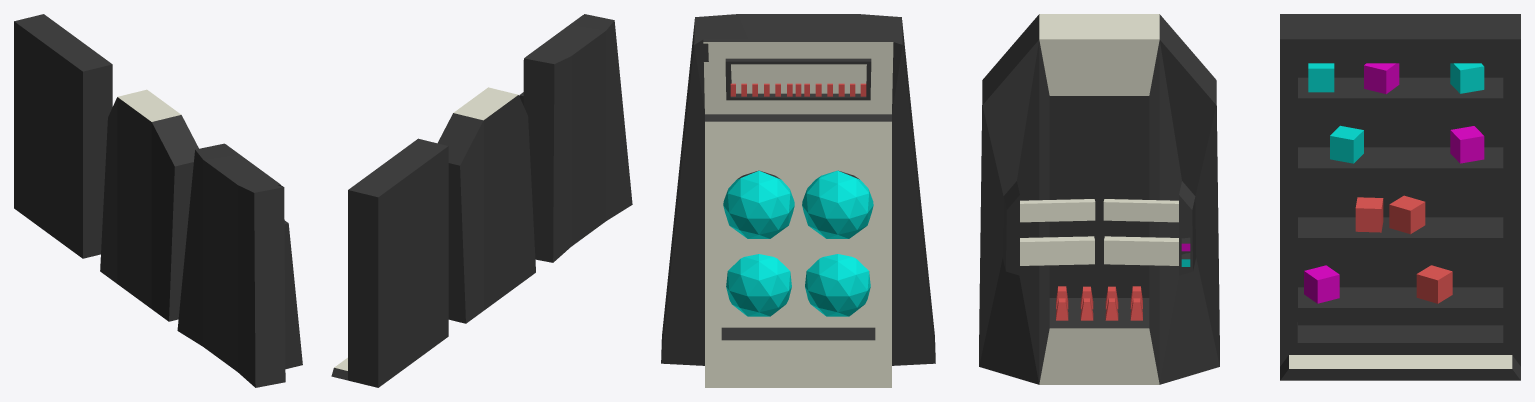
File: Terminals3x.fbx
The picture shows the model from 3 angles, left to right: view 1: azimuth 30°, elevation 25°; view 2: azimuth 150°, elevation 25°; view 3: azimuth 270°, elevation 25°; orthographic projection. The views are drawn at different scales.
Visible parts, largest first — view 1: Cube.002, Cube.001, Cube; view 2: Cube.001, Cube.002, Cube; view 3: Cube.002, Cube.001, Cube.
Boxes of the visible parts, x1,y1,x2,y2 form: Cube.002: (177,143,302,387); Cube.001: (14,14,112,258); Cube: (100,89,198,321); Cube.001: (331,138,448,387); Cube.002: (519,14,632,262); Cube: (438,87,535,323); Cube.002: (661,14,935,387); Cube.001: (1280,14,1520,380); Cube: (979,14,1219,384).
Bounding box in the file's own units: 220 × 601 × 1428.
